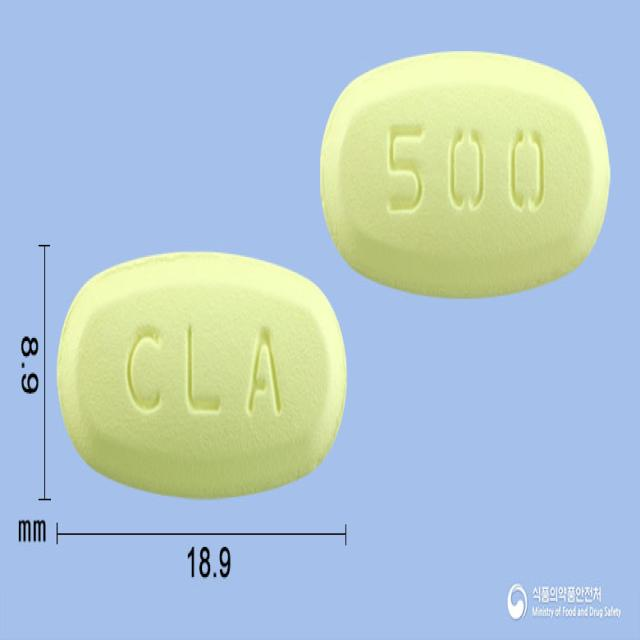Clar: (53, 246, 351, 503), (317, 44, 616, 300)
